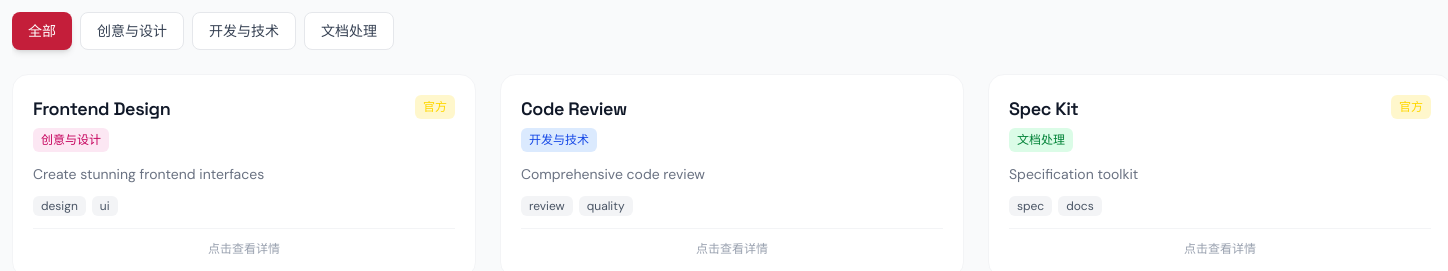
Test: SkillCardGrid › shows all cards when clicking all filter
The image size is (1448, 271).
Click the button "创意与设计": (132, 31) [80, 12, 184, 50]
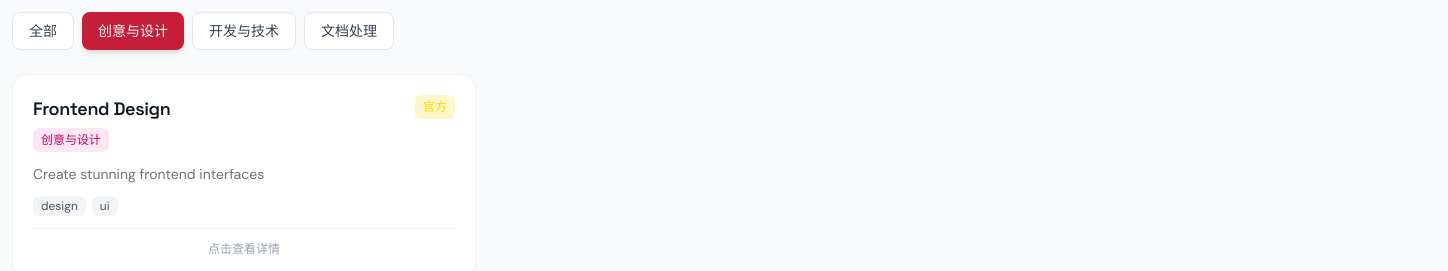
Click the button "全部": (43, 31) [12, 12, 74, 50]
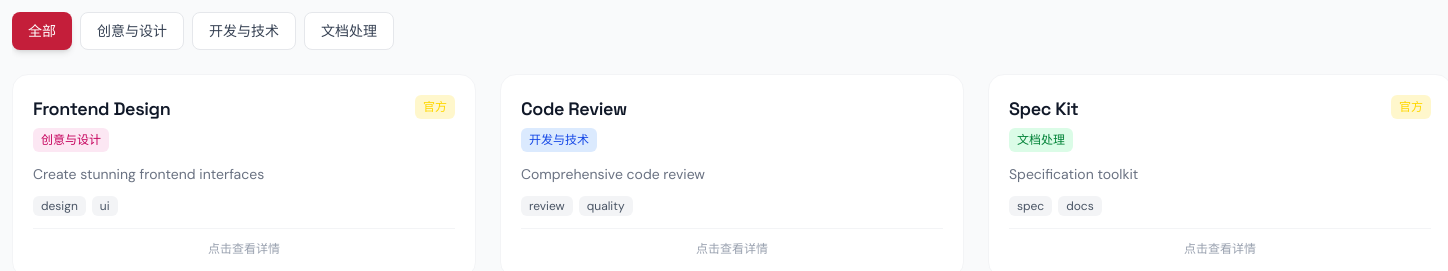
expect the heading "Frontend Design" is shown: met, box [33, 97, 170, 120]
expect the heading "Code Review" is shown: met, box [521, 97, 627, 120]
expect the heading "Spec Kit" is shown: met, box [1009, 97, 1078, 120]
